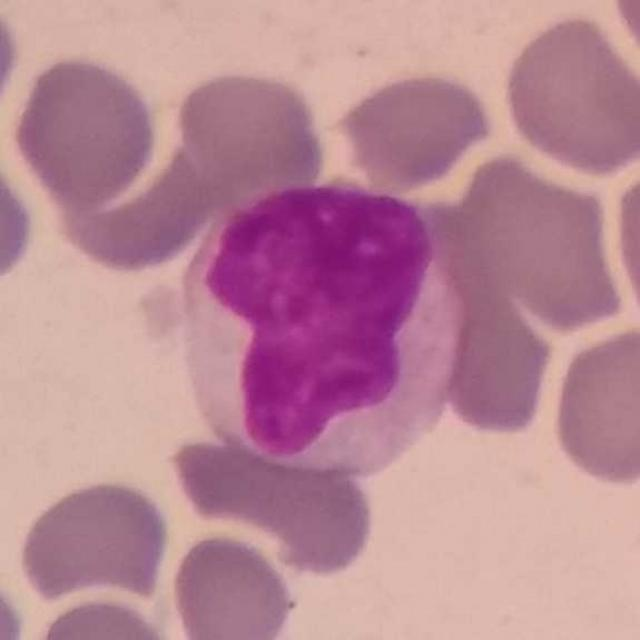Monocyte: (181, 186, 475, 480)
RBC: (448, 148, 629, 335), (164, 425, 380, 580), (7, 50, 164, 209), (497, 8, 640, 180), (13, 473, 176, 609), (328, 66, 500, 192), (432, 274, 558, 442), (56, 138, 216, 267), (169, 64, 332, 190), (546, 320, 640, 490), (165, 527, 299, 640), (24, 592, 186, 640), (0, 140, 40, 297), (609, 149, 640, 346), (0, 1, 23, 134), (0, 567, 29, 640)
